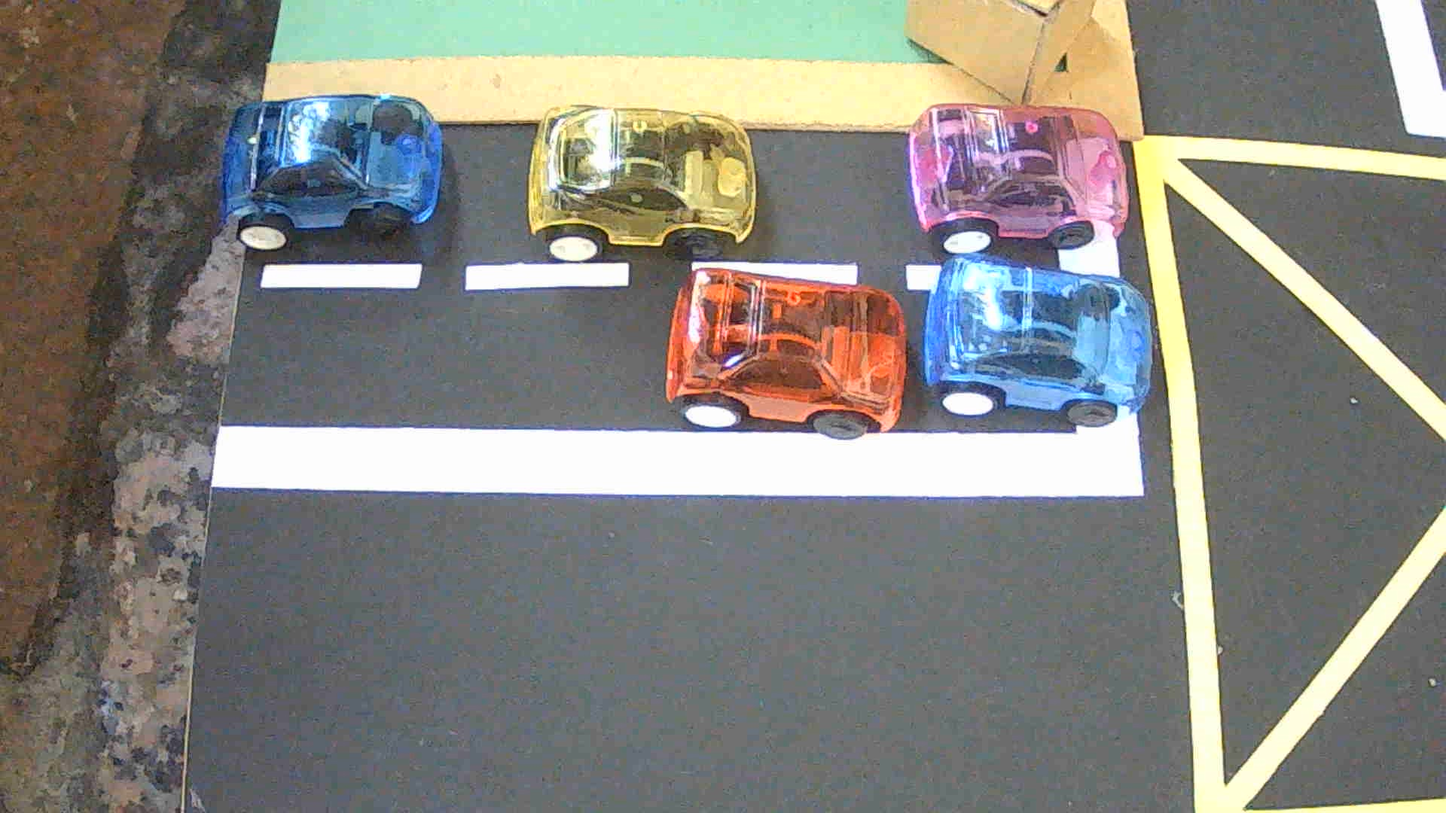Mobil biru: (920, 257, 1152, 426), (219, 95, 443, 250)
Mobil kuning: (528, 105, 755, 262)
Mobil merah: (667, 267, 907, 439)
Mobil ungu: (908, 104, 1128, 255)
